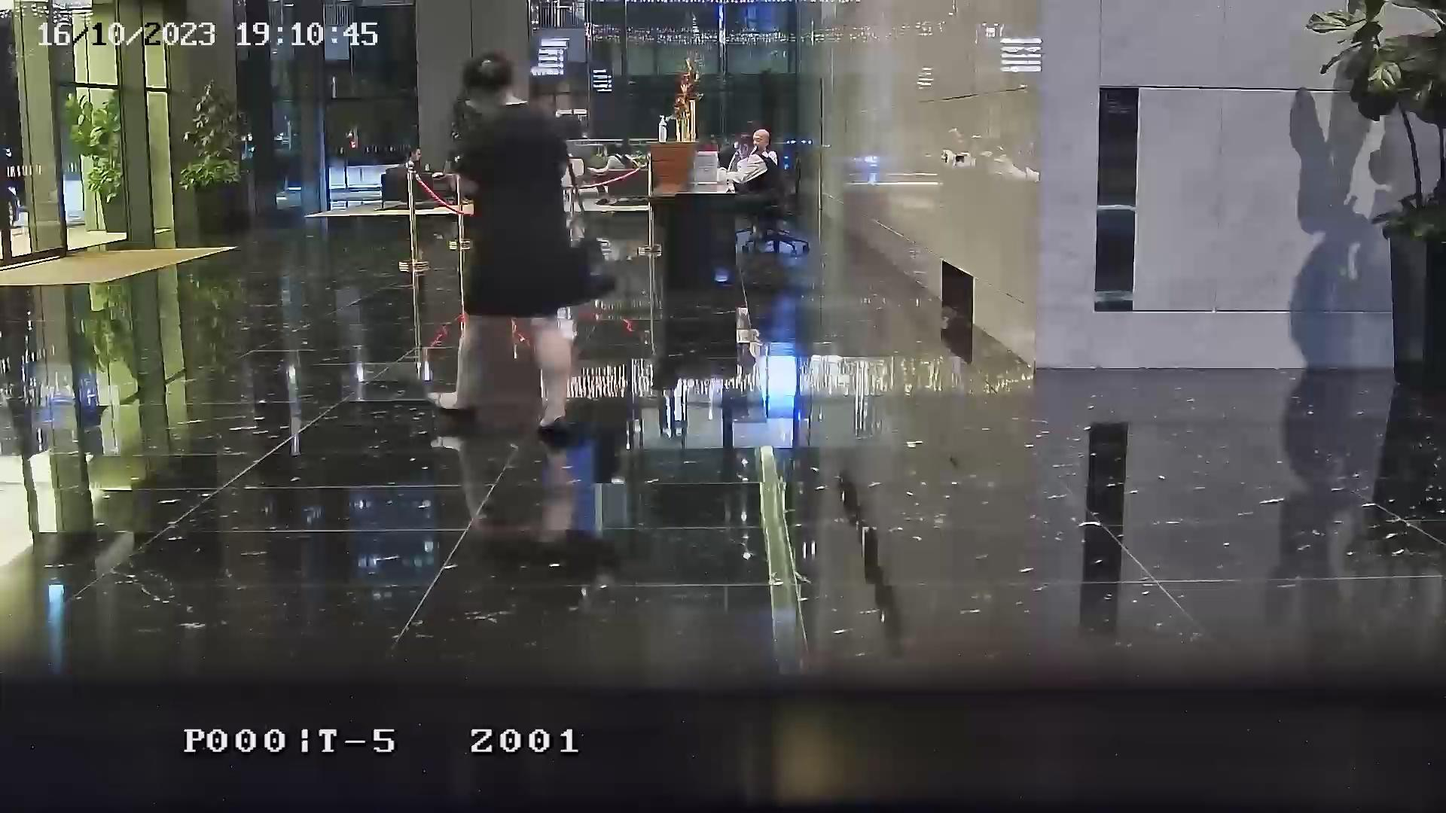person: (417, 49, 607, 434), (726, 126, 786, 209), (588, 141, 636, 206), (753, 129, 779, 164), (403, 144, 425, 168)
